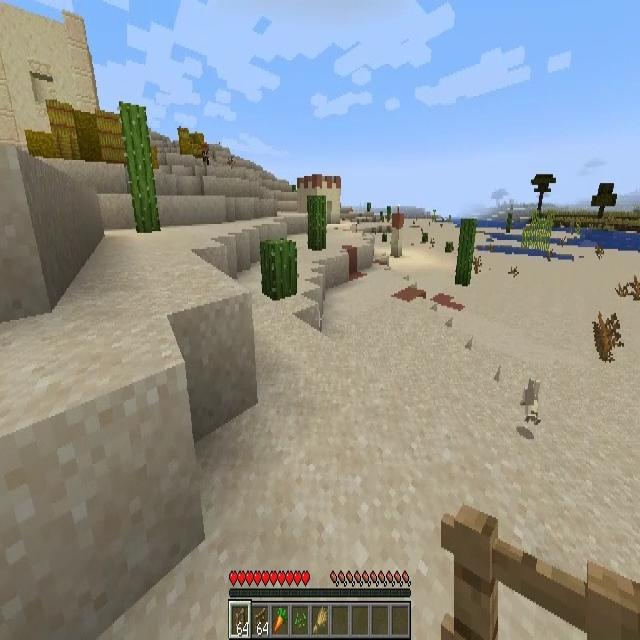rabbit: (518, 376, 542, 428)
